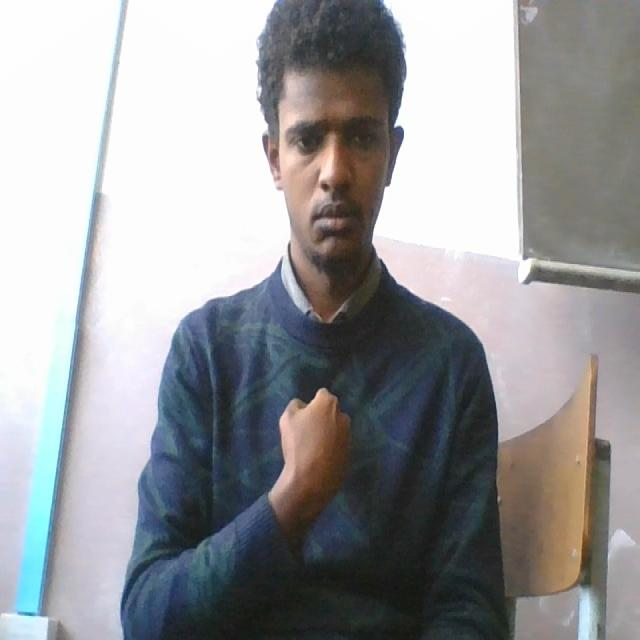ene: (267, 377, 360, 526)
